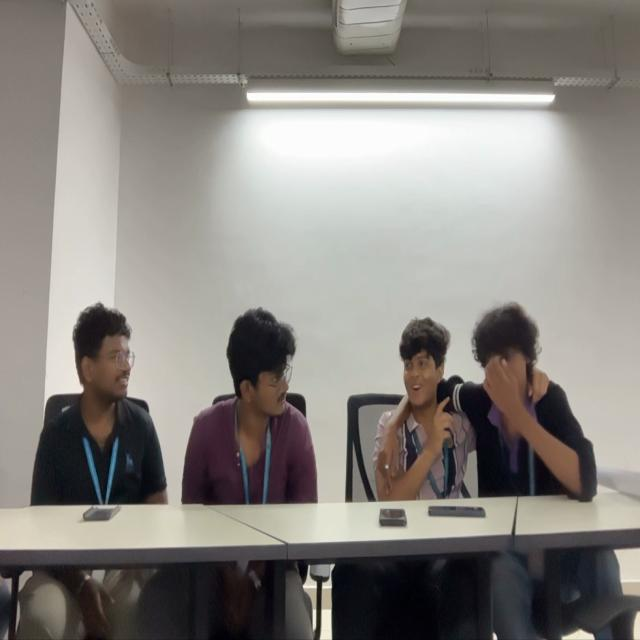Isolated: (30, 301, 166, 503), (180, 308, 320, 499)
socializing: (374, 298, 598, 496)
